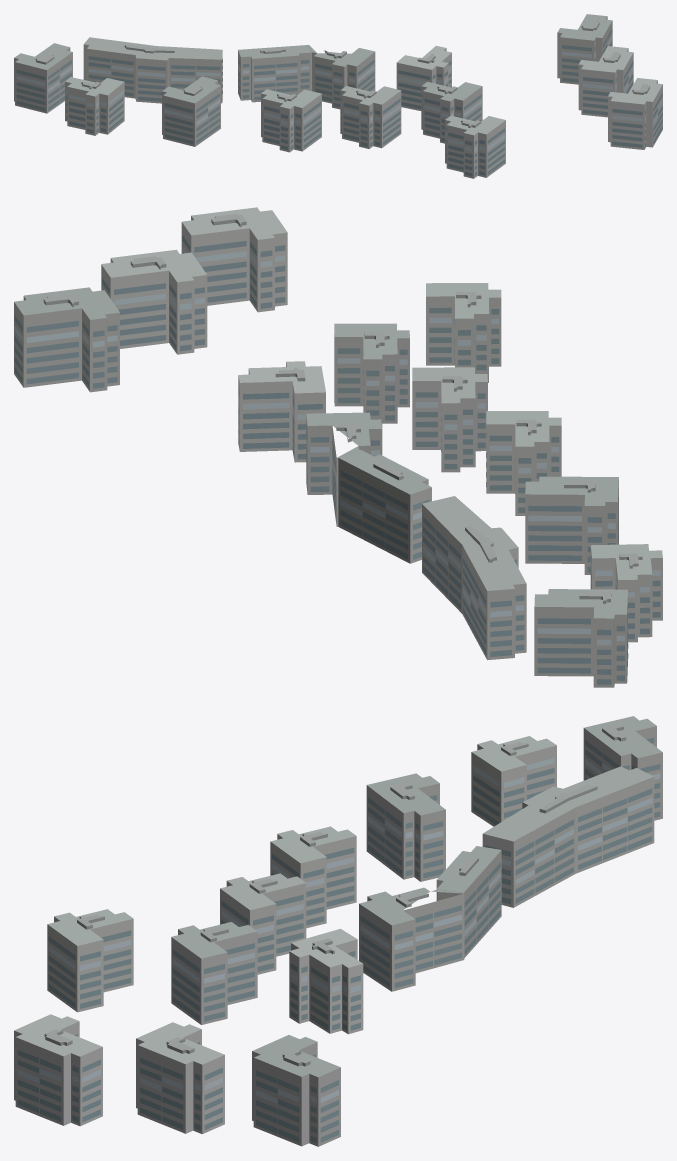
File: apt-a13778208.glb
3 views of the same model, one above another, from view 1: azimuth 30°, elevation 25°; view 2: azimuth 150°, elevation 25°; view 3: azimuth 270°, elevation 25° (orthographic). The views are drawn at different scales.
Visible parts, largest first — view 1: apt-a13778208; view 2: apt-a13778208; view 3: apt-a13778208.
Boxes of the visible parts, x1,y1,x2,y2 form: apt-a13778208: [14, 14, 662, 178]; apt-a13778208: [14, 207, 662, 687]; apt-a13778208: [14, 716, 662, 1146].
Bounding box in the file's own units: 236 × 22 × 178.
